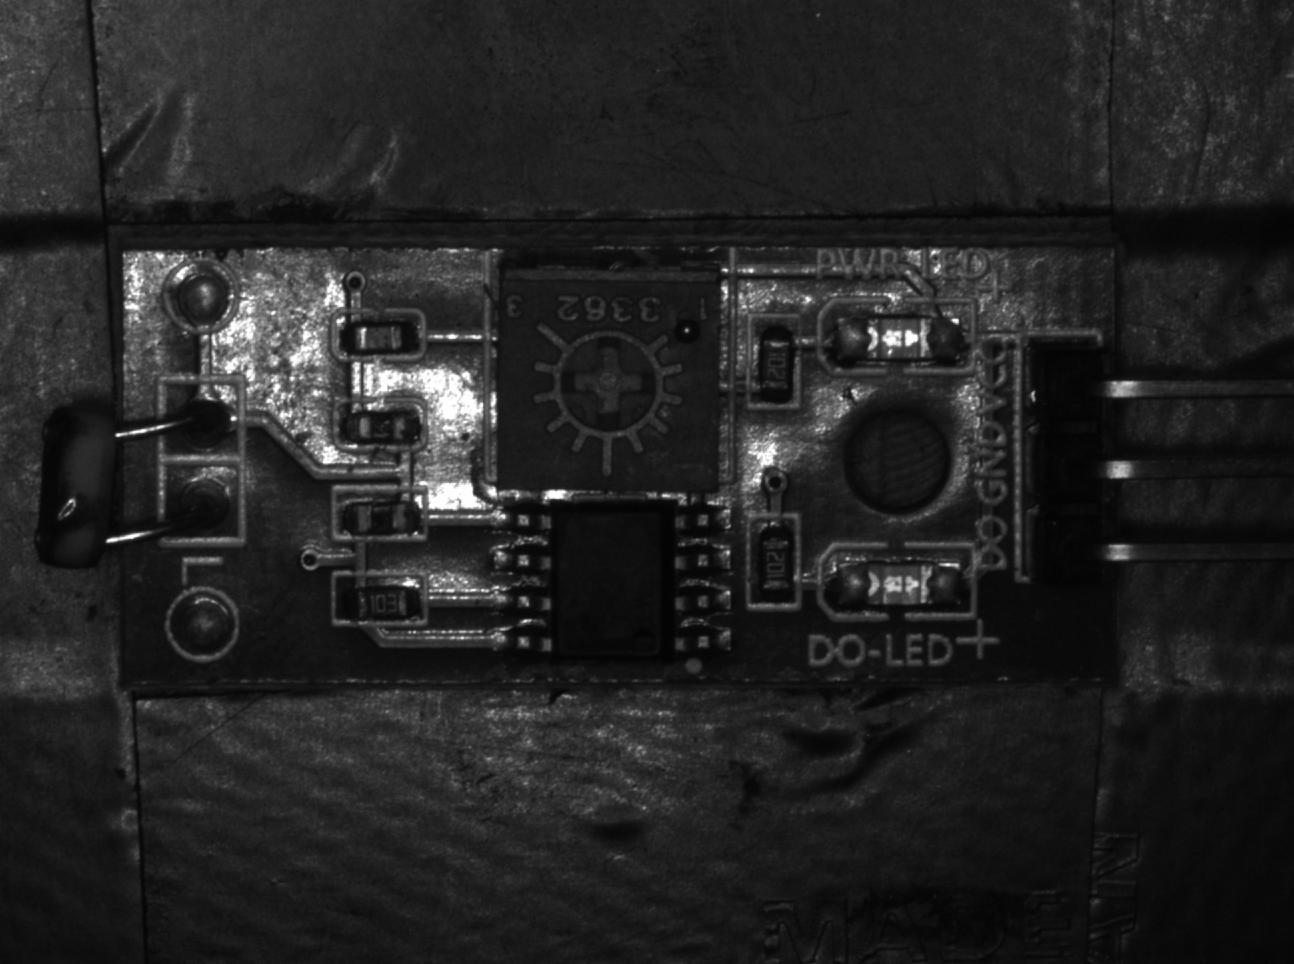miss: (336, 485, 425, 540), (333, 400, 429, 450)
ok: (329, 573, 430, 630), (746, 510, 804, 609), (331, 310, 429, 364), (749, 316, 800, 409)
